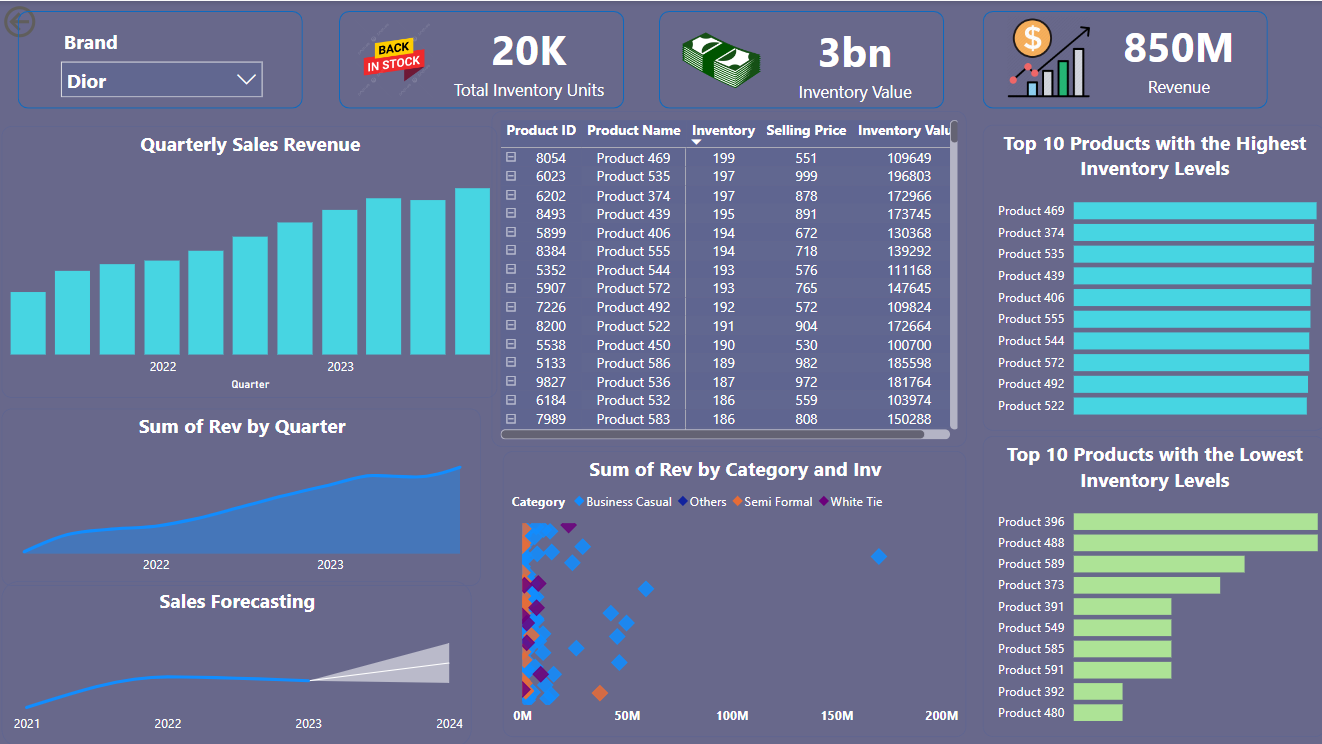

What the dashboard file says about the page in this screenshot:
{"tool":"powerbi","page":{"name":"Page 1","canvas":[1280,720],"ordinal":0},"visuals":[{"type":"pivotTable","fields":{"Rows":["Master.Product ID","Master.Product Name"],"Values":["Sum(Master.Inv)","Calendar.Total SP Value","Calendar.Inventory Value"]},"box":[475,106.2,458.8,323.8],"z":0},{"type":"actionButton","box":[0,0,100,40],"z":1000},{"type":"clusteredColumnChart","title":"Quarterly Sales Revenue","fields":{"Category":["Calendar.Quarter"],"Y":["Sum(Sales.Rev)"]},"box":[2.5,120,478.8,262.5],"z":2000},{"type":"areaChart","title":"Sum of Rev by Quarter","fields":{"Category":["Calendar.Quarter"],"Y":["Sum(Sales.Rev)"]},"box":[2.5,393.8,462.5,171.2],"z":3000},{"type":"clusteredBarChart","title":"Top 10 Products with the Highest Inventory Levels","fields":{"Category":["Master.Product Name"],"Y":["Calendar.Total Inventory Units"]},"box":[949.1,119.4,330.5,295.5],"z":4000},{"type":"clusteredBarChart","title":"Top 10 Products with the Lowest Inventory Levels","fields":{"Category":["Master.Product Name"],"Y":["Calendar.Total Inventory Units"]},"box":[949.1,419.7,330.5,290.7],"z":5000},{"type":"shape","box":[327.8,10,275.1,94.1],"z":6000},{"type":"shape","box":[18.1,9.6,275,94.1],"z":7000},{"type":"shape","box":[949.1,9.6,275,94.1],"z":8000},{"type":"shape","box":[637.1,10,275.1,94.1],"z":9000},{"type":"card","fields":{"Values":["Calendar.Total Inventory Units"]},"box":[408.8,9.6,205,94.1],"z":10000},{"type":"card","fields":{"Values":["Calendar.Inventory Value"]},"box":[723.6,12.1,205,94.1],"z":11000},{"type":"slicer","fields":{"Values":["Master.Brand"]},"box":[49.4,21.7,214.7,71.2],"z":12000},{"type":"card","fields":{"Values":["Sum(Sales.Rev)"]},"box":[1036,7.2,205,94.1],"z":13000},{"type":"image","box":[333.1,11.5,96.9,89.2],"z":14000},{"type":"image","box":[651.5,10,91.5,91.5],"z":15000},{"type":"image","box":[967.7,8.5,91.5,93.1],"z":16000},{"type":"lineChart","title":"Sales Forecasting","fields":{"Y":["Sum(Sales.Rev)"],"Category":["Calendar.Date.Variation.Date Hierarchy.Year"]},"box":[2.5,560,453.8,160],"z":17000},{"type":"scatterChart","fields":{"Y":["Master.Inv"],"Series":["Master.Category"],"X":["Sum(Sales.Rev)"]},"box":[486,434.2,447.4,276.2],"z":18000}]}

Visuals, with their boxes in screenshot pixels (x1, y1, x2, y2), scaled from the page's 1280x720 canvas onto the 1322x744 screenshot:
pivotTable - Master.Product ID x Master.Product Name: (left=491, top=110, right=964, bottom=444)
actionButton: (left=0, top=0, right=103, bottom=41)
"Quarterly Sales Revenue" clusteredColumnChart: (left=3, top=124, right=497, bottom=395)
"Sum of Rev by Quarter" areaChart: (left=3, top=407, right=480, bottom=584)
"Top 10 Products with the Highest Inventory Levels" clusteredBarChart: (left=980, top=123, right=1321, bottom=429)
"Top 10 Products with the Lowest Inventory Levels" clusteredBarChart: (left=980, top=434, right=1321, bottom=734)
shape: (left=339, top=10, right=623, bottom=108)
shape: (left=19, top=10, right=303, bottom=107)
shape: (left=980, top=10, right=1264, bottom=107)
shape: (left=658, top=10, right=942, bottom=108)
card - Calendar.Total Inventory Units: (left=422, top=10, right=634, bottom=107)
card - Calendar.Inventory Value: (left=747, top=13, right=959, bottom=110)
slicer - Master.Brand: (left=51, top=22, right=273, bottom=96)
card - Sum(Sales.Rev): (left=1070, top=7, right=1282, bottom=105)
image: (left=344, top=12, right=444, bottom=104)
image: (left=673, top=10, right=767, bottom=105)
image: (left=999, top=9, right=1094, bottom=105)
"Sales Forecasting" lineChart: (left=3, top=579, right=471, bottom=743)
scatterChart - Master.Inv x Master.Category: (left=502, top=449, right=964, bottom=734)
